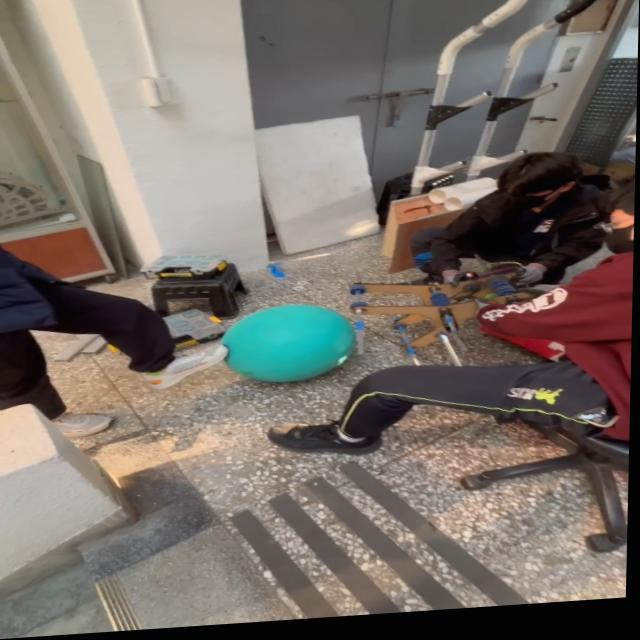ALGAE: (217, 299, 359, 388)
